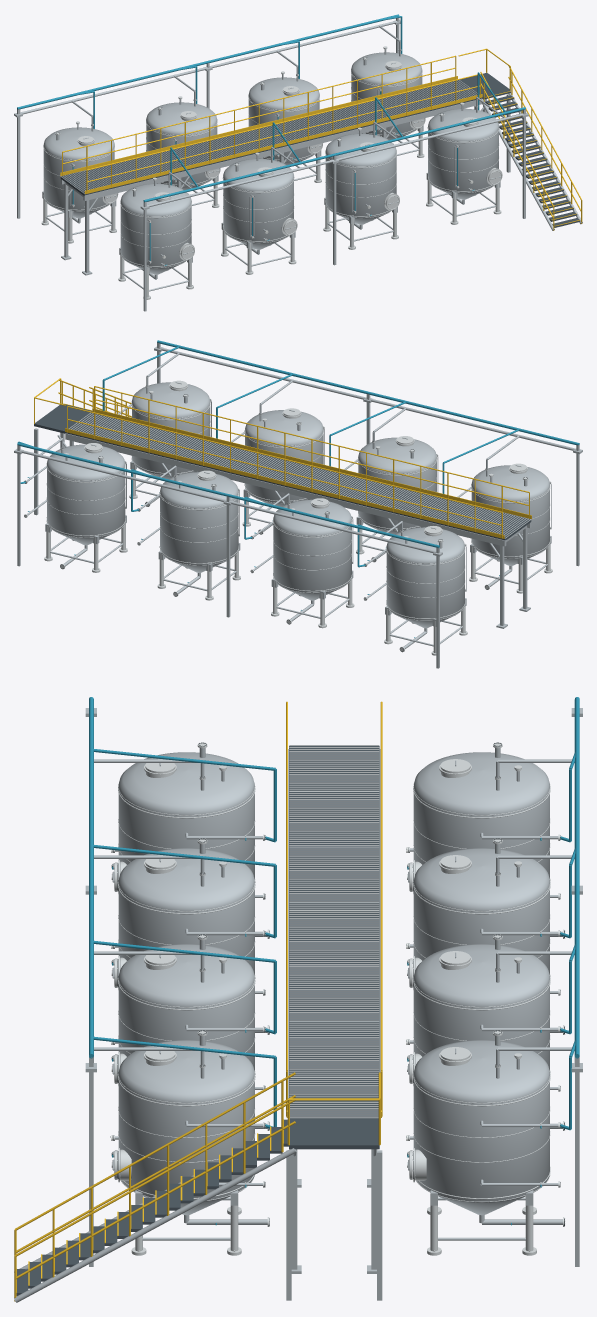
File: 发酵罐-八罐整体.glb
3 views of the same model, one above another, from view 1: azimuth 30°, elevation 25°; view 2: azimuth 150°, elevation 25°; view 3: azimuth 270°, elevation 25° (orthographic). The views are drawn at different scales.
Parts seen in each view (by area): view 1: ARRAY_Platform deck, T01_Tank shell, T02_Tank shell, T04_Tank shell, T03_Tank shell, T05_Tank shell, T06_Tank shell, T07_Tank shell, T08_Tank shell, ARRAY_Platform edge beam, ARRAY_Toe board, ARRAY_Toe board.001 (+14 smaller); view 2: ARRAY_Platform deck, T06_Tank shell, T08_Tank shell, T05_Tank shell, T07_Tank shell, T01_Tank shell, T04_Tank shell, T03_Tank shell, T02_Tank shell, ARRAY_Platform edge beam.001, ARRAY_Toe board.001, ARRAY_Toe board (+13 smaller); view 3: ARRAY_Platform deck, T08_Tank shell, T04_Tank shell, T07_Tank shell, T05_Tank shell, T06_Tank shell, T01_Tank shell, T02_Tank shell, T03_Tank shell, ARRAY_Landing, ARRAY_Common utility header.003, ARRAY_Stair stringer.001 (+10 smaller).
Part boxes in pixels (left/top/right/bottom): ARRAY_Platform deck: left=60, top=80, right=481, bottom=195; T01_Tank shell: left=120, top=183, right=191, bottom=274; T02_Tank shell: left=223, top=158, right=293, bottom=249; T04_Tank shell: left=428, top=108, right=498, bottom=199; T03_Tank shell: left=325, top=133, right=396, bottom=224; T05_Tank shell: left=43, top=127, right=114, bottom=218; T06_Tank shell: left=146, top=102, right=217, bottom=190; T07_Tank shell: left=248, top=77, right=319, bottom=164; T08_Tank shell: left=351, top=52, right=422, bottom=139; ARRAY_Platform edge beam: left=83, top=98, right=482, bottom=200; ARRAY_Toe board: left=84, top=94, right=482, bottom=194; ARRAY_Toe board.001: left=60, top=76, right=457, bottom=176; ARRAY_Platform deck: left=65, top=413, right=531, bottom=540; T06_Tank shell: left=273, top=499, right=351, bottom=600; T08_Tank shell: left=47, top=444, right=125, bottom=545; T05_Tank shell: left=386, top=527, right=464, bottom=628; T07_Tank shell: left=160, top=472, right=238, bottom=572; T01_Tank shell: left=471, top=465, right=549, bottom=565; T04_Tank shell: left=132, top=382, right=210, bottom=479; T03_Tank shell: left=245, top=410, right=323, bottom=506; T02_Tank shell: left=358, top=437, right=436, bottom=534; ARRAY_Platform edge beam.001: left=65, top=433, right=506, bottom=546; ARRAY_Toe board.001: left=65, top=428, right=504, bottom=538; ARRAY_Toe board: left=92, top=408, right=531, bottom=518; ARRAY_Platform deck: left=289, top=746, right=379, bottom=1117; T08_Tank shell: left=413, top=1040, right=549, bottom=1215; T04_Tank shell: left=118, top=1040, right=254, bottom=1215; T07_Tank shell: left=413, top=944, right=549, bottom=1070; T05_Tank shell: left=413, top=752, right=549, bottom=878; T06_Tank shell: left=413, top=848, right=549, bottom=974; T01_Tank shell: left=118, top=752, right=254, bottom=878; T02_Tank shell: left=118, top=848, right=254, bottom=974; T03_Tank shell: left=118, top=944, right=254, bottom=1070; ARRAY_Landing: left=289, top=1118, right=379, bottom=1149; ARRAY_Common utility header.003: left=574, top=697, right=579, bottom=1058; ARRAY_Stair stringer.001: left=14, top=1148, right=296, bottom=1302.
Size of the model in its own units: 20.85 by 5.21 by 12.53.
